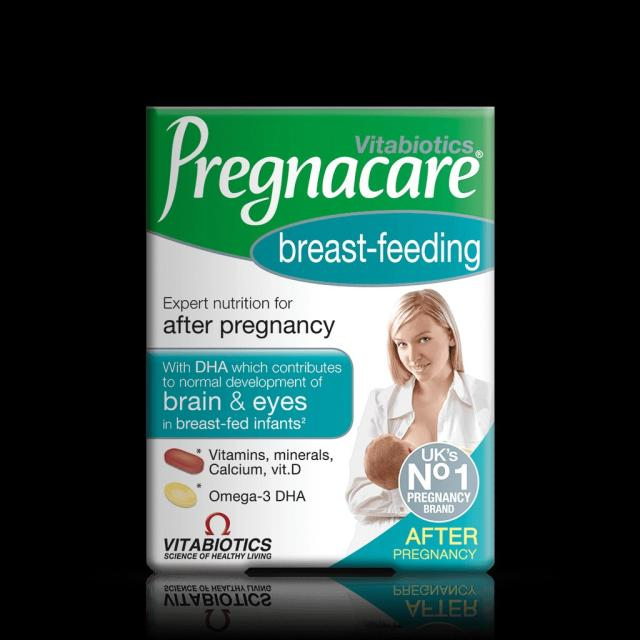pregnancy: (150, 109, 494, 632)
